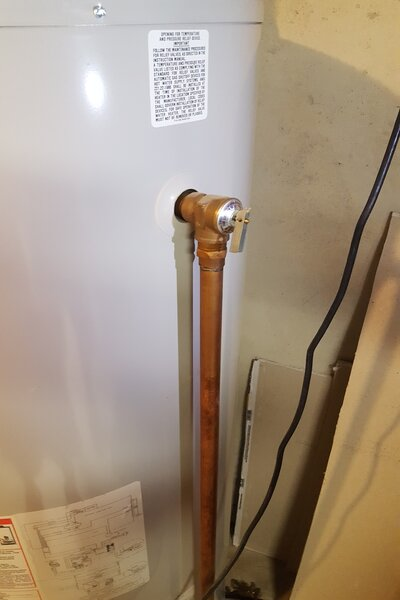valve: (174, 189, 254, 289)
